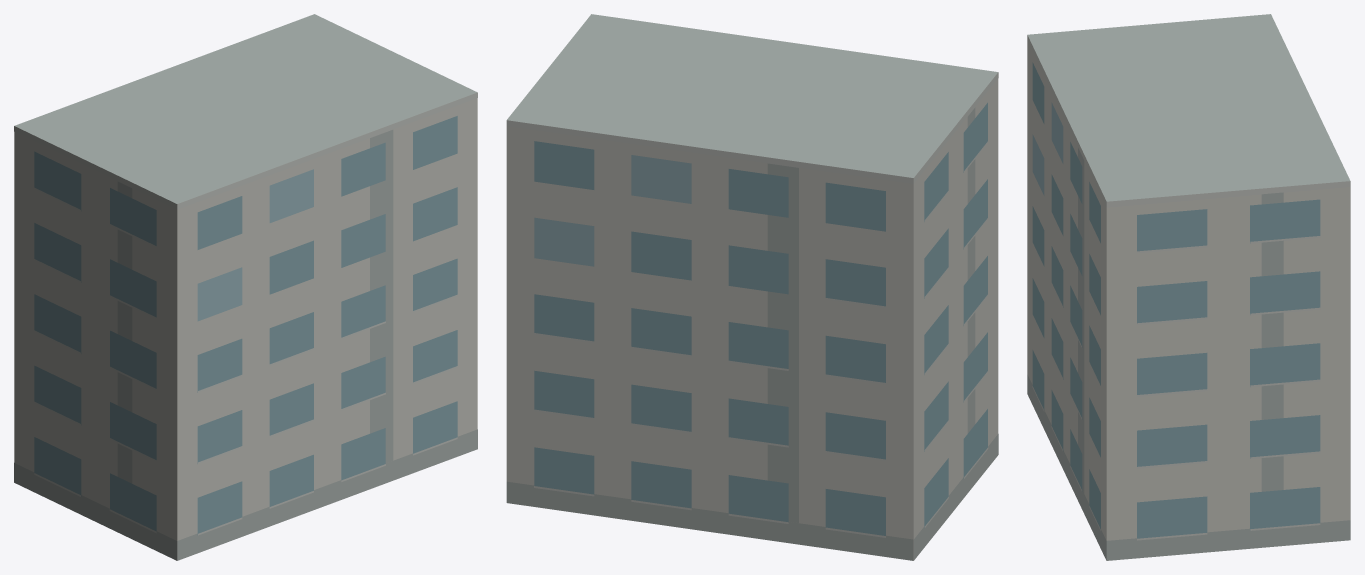
Rendered from residential-169b3ac9-bb07-4217-b28f-09404d9d1bde.glb.
3 views of the same model, side by side, from view 1: azimuth 30°, elevation 25°; view 2: azimuth 150°, elevation 25°; view 3: azimuth 270°, elevation 25° (orthographic). The views are drawn at different scales.
Visible parts, largest first — view 1: residential-169b3ac9-bb07-4217-b28f-09404d9d1bde.tmp; view 2: residential-169b3ac9-bb07-4217-b28f-09404d9d1bde.tmp; view 3: residential-169b3ac9-bb07-4217-b28f-09404d9d1bde.tmp.
Boxes of the visible parts, box(x1,y1,x2,y2) form: residential-169b3ac9-bb07-4217-b28f-09404d9d1bde.tmp: box(14, 14, 477, 560); residential-169b3ac9-bb07-4217-b28f-09404d9d1bde.tmp: box(506, 14, 998, 560); residential-169b3ac9-bb07-4217-b28f-09404d9d1bde.tmp: box(1027, 14, 1350, 560).
Bounding box in the file's own units: 17.1 × 15.25 × 12.45.
